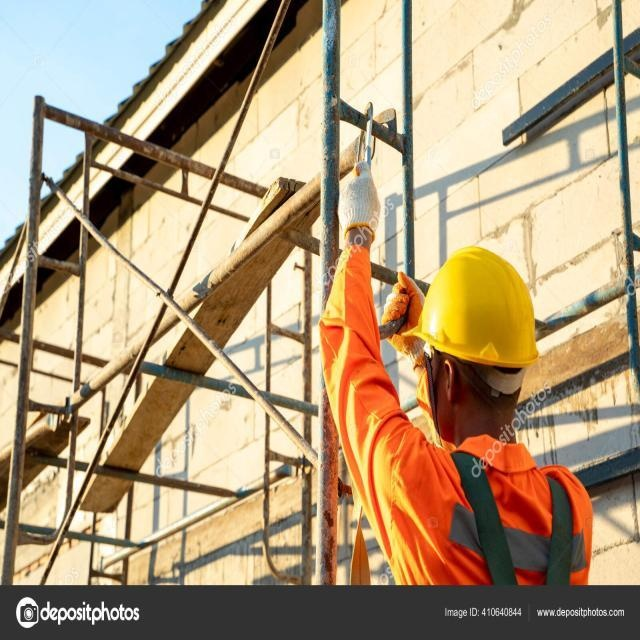Arnes_seguridad: (433, 448, 584, 587)
